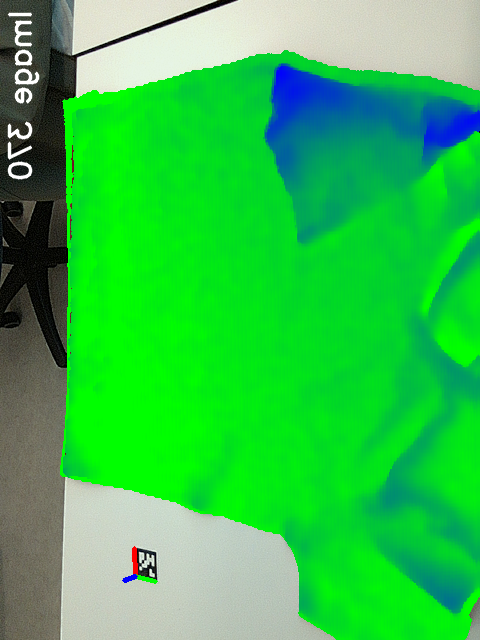V: (367, 458, 435, 513), (284, 207, 334, 251)
